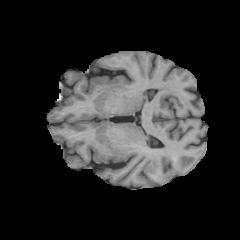glioma: (143, 157, 176, 186)
